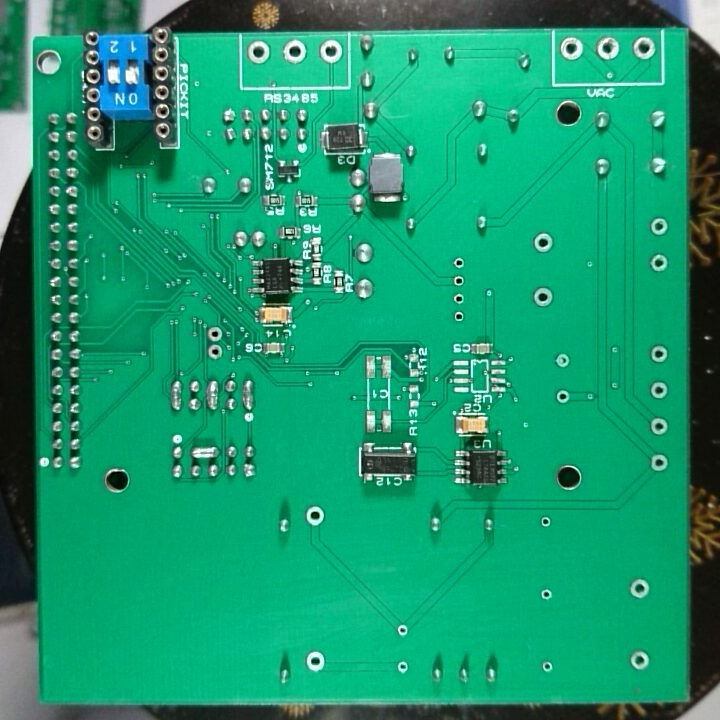F: (245, 38, 274, 68), (592, 34, 622, 62), (558, 33, 586, 63), (630, 34, 658, 63), (282, 39, 309, 68), (317, 38, 344, 66), (531, 229, 557, 256), (302, 646, 329, 672), (303, 503, 328, 530), (627, 575, 652, 602), (646, 378, 671, 403), (645, 341, 669, 367), (531, 285, 555, 309), (628, 648, 652, 672), (647, 414, 671, 438), (648, 450, 671, 475), (648, 251, 671, 276), (551, 349, 573, 372), (648, 215, 669, 238), (554, 384, 571, 408), (205, 323, 225, 343), (449, 253, 469, 272), (205, 342, 225, 361), (450, 288, 468, 308), (450, 271, 468, 290), (450, 307, 468, 326), (537, 512, 554, 531), (394, 620, 410, 640), (539, 658, 555, 677), (395, 658, 411, 677), (538, 586, 554, 604)
P: (204, 377, 222, 414), (239, 376, 257, 412), (168, 378, 184, 414), (188, 442, 219, 459)
